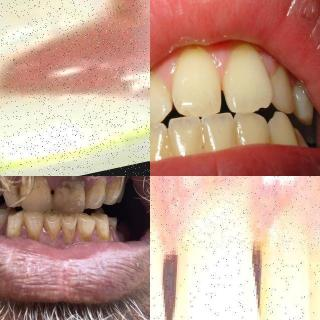Gum Swelling: (0, 0, 150, 106)
cavities: (58, 176, 86, 212)
maligned: (174, 51, 220, 117), (224, 48, 268, 110), (270, 62, 298, 114), (150, 80, 172, 128)
plaque: (22, 176, 54, 198), (92, 177, 106, 199)
stains: (106, 176, 124, 202), (60, 222, 79, 246), (24, 221, 44, 243), (76, 222, 94, 245), (45, 221, 63, 243), (4, 220, 22, 242), (96, 224, 112, 246), (24, 210, 46, 225), (10, 183, 24, 205), (8, 205, 24, 223), (64, 210, 78, 230), (45, 212, 61, 228), (78, 210, 94, 226), (95, 210, 109, 224), (0, 206, 14, 220)
